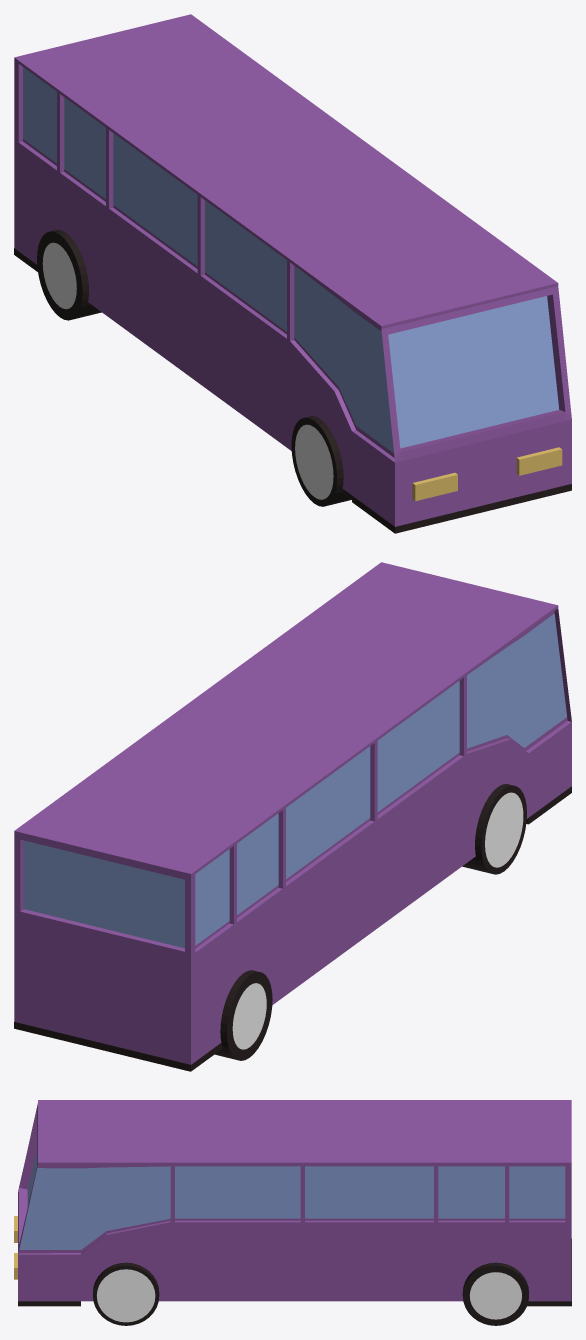
Rendered from Bus.glb.
The picture shows the model from 3 angles, top to bottom: view 1: azimuth 30°, elevation 25°; view 2: azimuth 150°, elevation 25°; view 3: azimuth 270°, elevation 25°; orthographic projection. The views are drawn at different scales.
Parts seen in each view (by area): view 1: Cube, Cylinder.003, Cylinder.002, Cube.003, Cube.001, Cube.002; view 2: Cube, Cylinder.002, Cylinder.003, Cube.004; view 3: Cube, Cylinder, Cylinder.001, Cube.003, Cube.004.
Part boxes in pixels (x1,y1,x2,y2): Cube: (14, 14, 571, 526); Cylinder.003: (37, 229, 101, 320); Cylinder.002: (291, 416, 351, 506); Cube.003: (352, 484, 571, 533); Cube.001: (516, 447, 562, 475); Cube.002: (412, 472, 457, 501); Cube: (14, 562, 571, 1064); Cylinder.002: (462, 784, 526, 874); Cylinder.003: (215, 970, 272, 1060); Cube.004: (14, 1021, 222, 1071); Cube: (18, 1100, 571, 1301); Cylinder: (93, 1262, 159, 1325); Cylinder.001: (462, 1262, 528, 1325); Cube.003: (18, 1301, 80, 1306); Cube.004: (527, 1239, 571, 1306).
Size of the model in its own units: 3.75 by 4.1 by 12.96.
